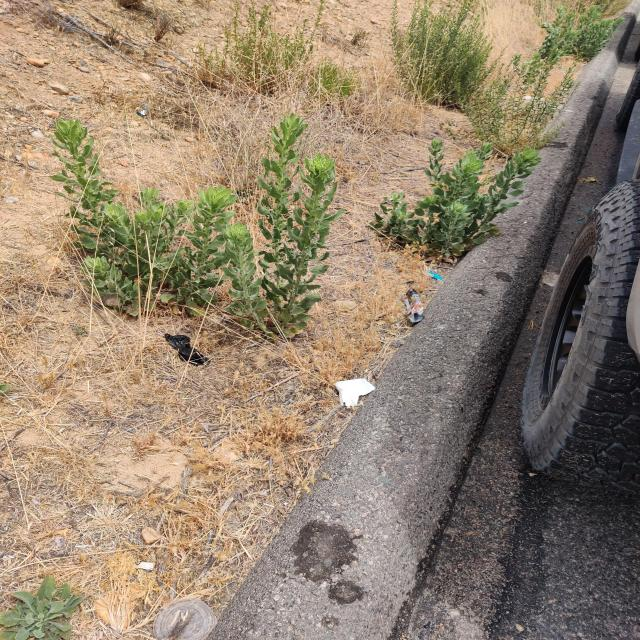litter: (153, 326, 221, 371), (398, 281, 434, 330)
